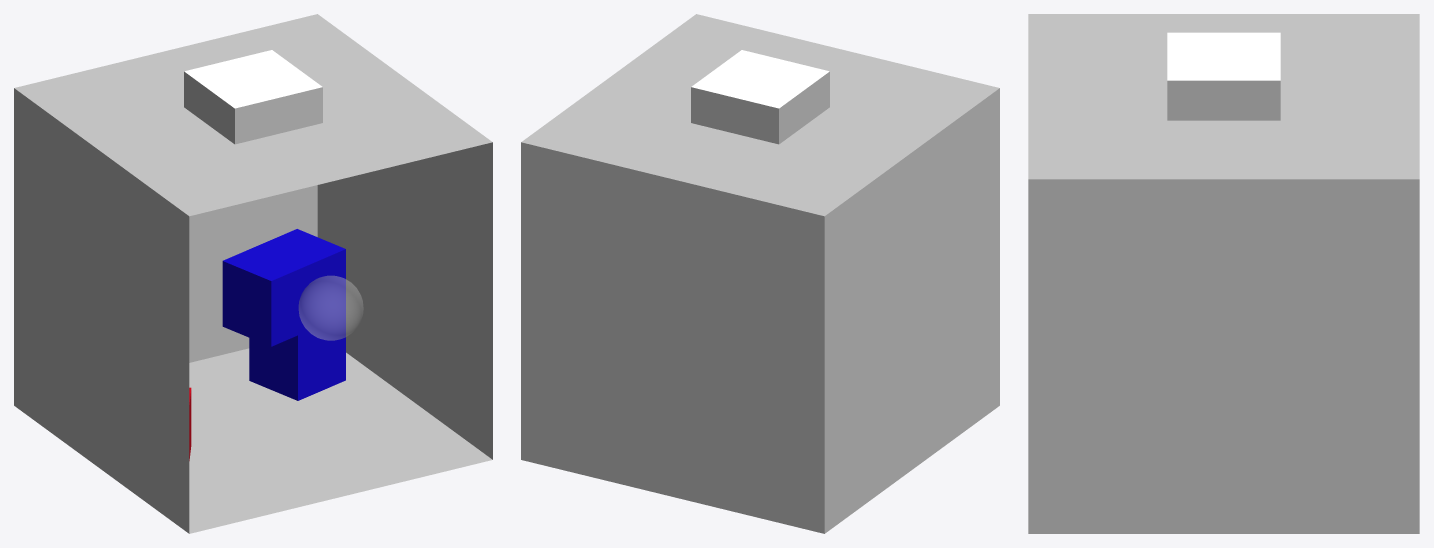
File: ReflectionRoom.glb
3 views of the same model, side by side, from view 1: azimuth 30°, elevation 25°; view 2: azimuth 150°, elevation 25°; view 3: azimuth 270°, elevation 25° (orthographic). The views are drawn at different scales.
Parts seen in each view (by area): view 1: Cube.002, Cube.001, Sphere; view 2: Cube.002; view 3: Cube.002.
Boxes of the visible parts, x1,y1,x2,y2 form: Cube.002: (14,14,492,533); Cube.001: (222,229,345,400); Sphere: (299,276,363,340); Cube.002: (521,14,999,533); Cube.002: (1028,14,1419,533).
Size of the model in its own units: 16 by 17.82 by 16.
